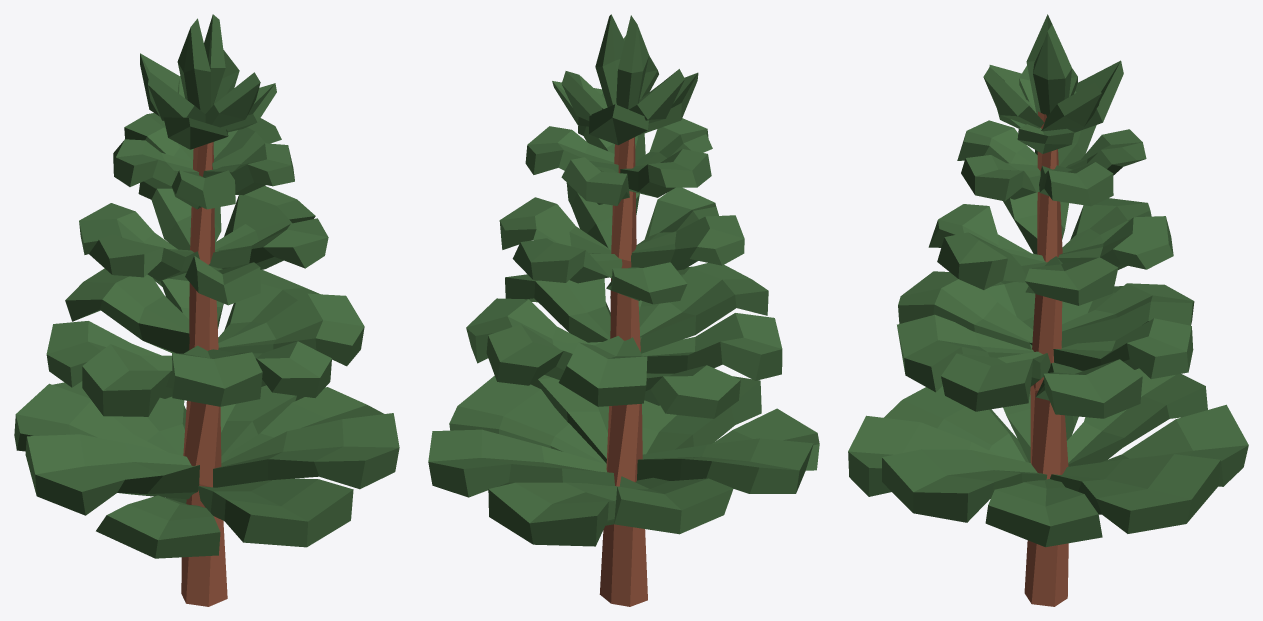
The model's file is Tree_6_Low.fbx.
The picture shows the model from 3 angles, left to right: view 1: azimuth 30°, elevation 25°; view 2: azimuth 150°, elevation 25°; view 3: azimuth 270°, elevation 25°; orthographic projection.
Parts seen in each view (by area): view 1: Tree_6_Low; view 2: Tree_6_Low; view 3: Tree_6_Low.
Boxes of the visible parts, x1=… form: Tree_6_Low: x1=14, y1=14, x2=399, y2=606; Tree_6_Low: x1=428, y1=14, x2=819, y2=606; Tree_6_Low: x1=848, y1=14, x2=1248, y2=606.
Size of the model in its own units: 129 by 213 by 133.
